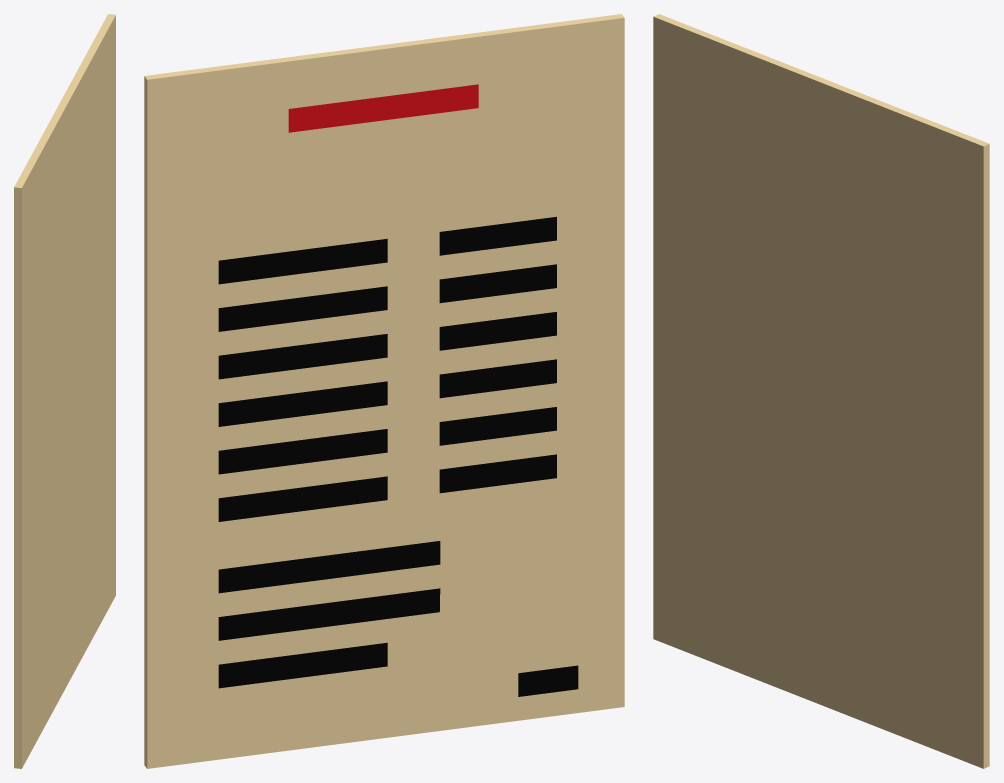
Rendered from Paper 3.fbx.
The picture shows the model from 3 angles, left to right: view 1: azimuth 30°, elevation 25°; view 2: azimuth 150°, elevation 25°; view 3: azimuth 270°, elevation 25°; orthographic projection. The views are drawn at different scales.
Visible parts, largest first — view 1: Paper 3; view 2: Paper 3; view 3: Paper 3.
Boxes of the visible parts, x1=… form: Paper 3: x1=14, y1=14, x2=115, y2=768; Paper 3: x1=144, y1=14, x2=624, y2=768; Paper 3: x1=653, y1=14, x2=989, y2=768.
Bounding box in the file's own units: 34.41 × 36.9 × 75.37.
